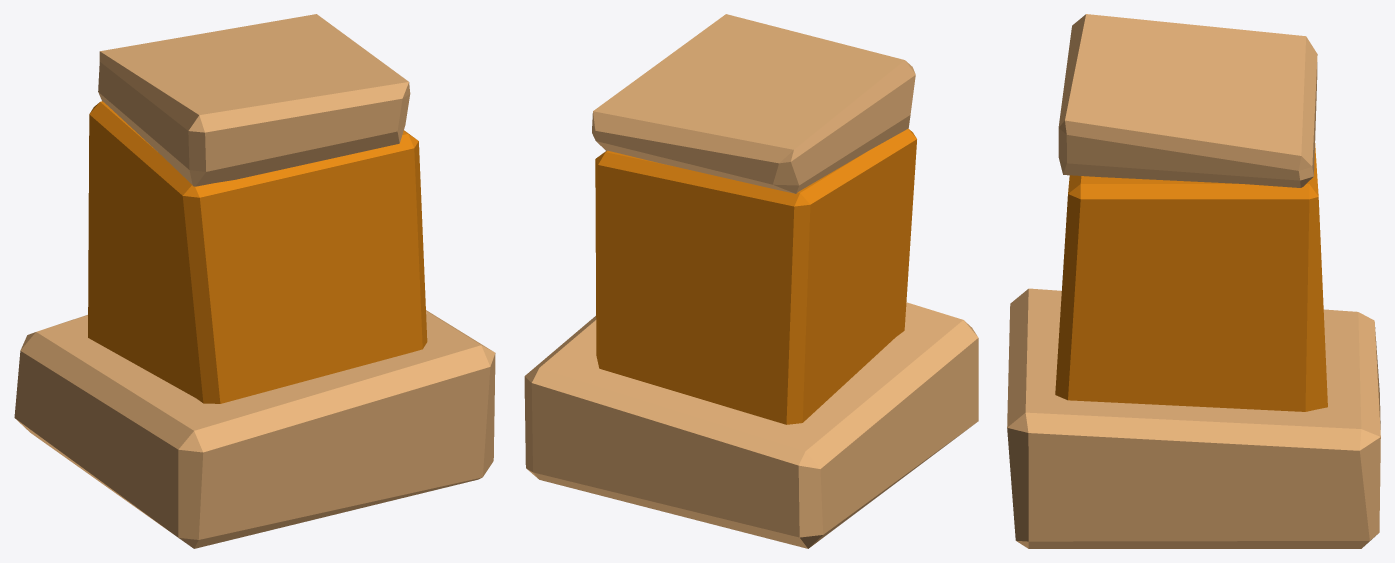
Rendered from Columna_base.fbx.
3 renders of one model, left to right at view 1: azimuth 30°, elevation 25°; view 2: azimuth 150°, elevation 25°; view 3: azimuth 270°, elevation 25°, orthographic. The views are drawn at different scales.
Visible parts, largest first — view 1: Columna.010; view 2: Columna.010; view 3: Columna.010.
Boxes of the visible parts, x1,y1,x2,y2 form: Columna.010: [14, 14, 495, 548]; Columna.010: [524, 14, 978, 548]; Columna.010: [1007, 14, 1380, 548].
Bounding box in the file's own units: 235 × 290 × 237.
